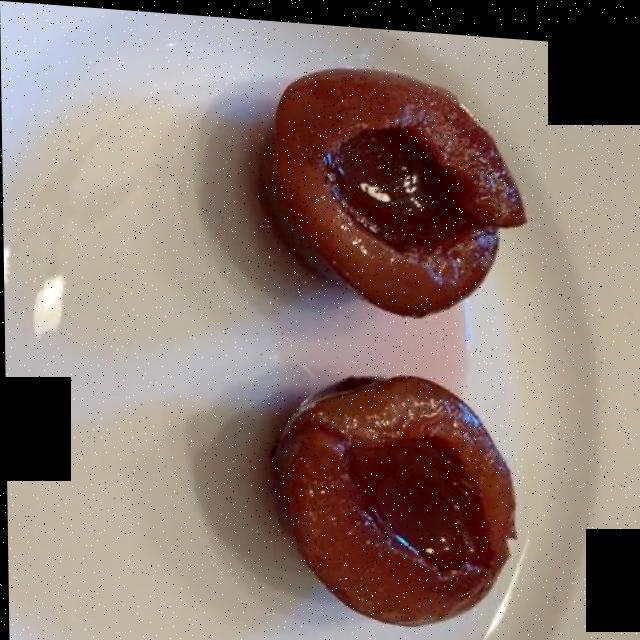plums: (211, 35, 537, 611)
